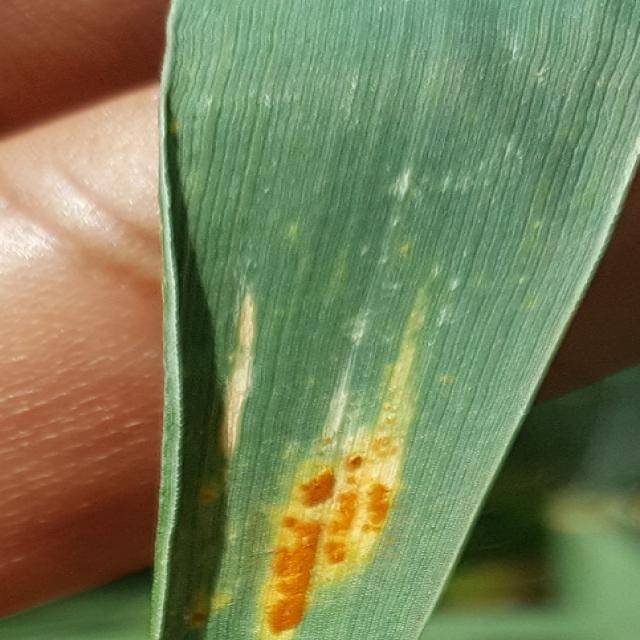wheat-stemrust: (210, 291, 466, 640)
